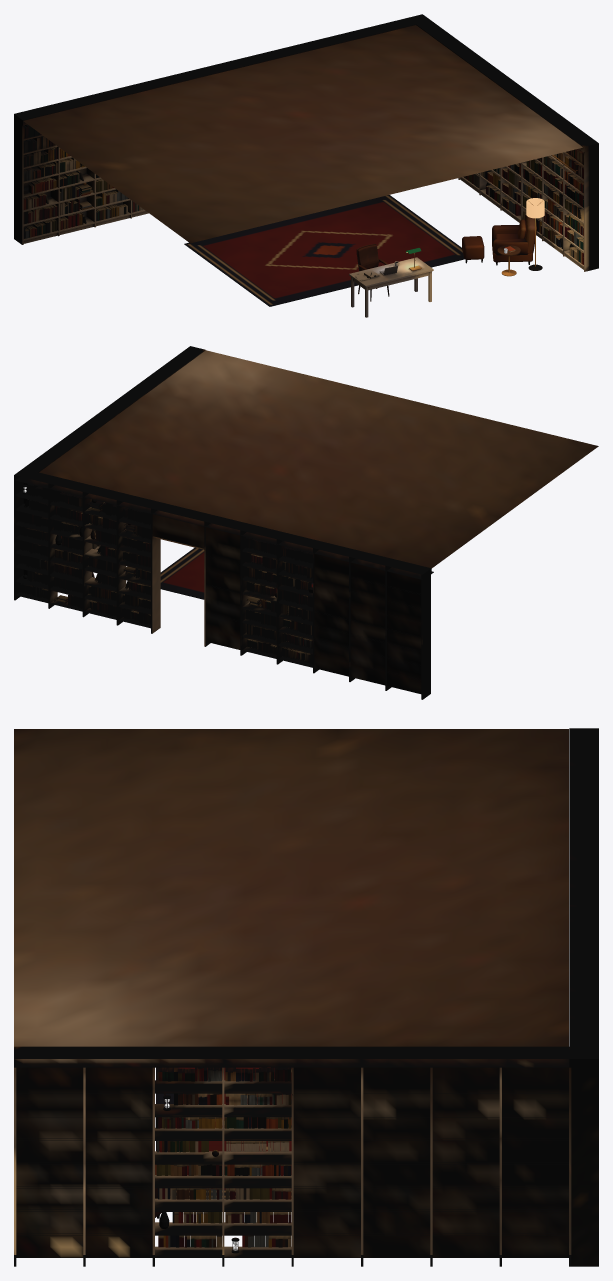
The model's file is library.glb.
3 views of the same model, one above another, from view 1: azimuth 30°, elevation 25°; view 2: azimuth 150°, elevation 25°; view 3: azimuth 270°, elevation 25° (orthographic). The views are drawn at different scales.
Parts seen in each view (by area): view 1: library__roof__vtx, library__upper__vtx, library__upper__raw; view 2: library__roof__vtx, library__upper__vtx; view 3: library__roof__vtx, library__upper__vtx.
Part boxes in pixels (bbox=[...]): library__roof__vtx: bbox=[23, 25, 582, 243]; library__upper__vtx: bbox=[14, 14, 598, 317]; library__upper__raw: bbox=[406, 198, 544, 253]; library__roof__vtx: bbox=[39, 350, 598, 568]; library__upper__vtx: bbox=[14, 346, 433, 699]; library__roof__vtx: bbox=[14, 729, 568, 1046]; library__upper__vtx: bbox=[14, 728, 598, 1266].
Bounding box in the file's own units: 10.2 × 2.99 × 7.63.
